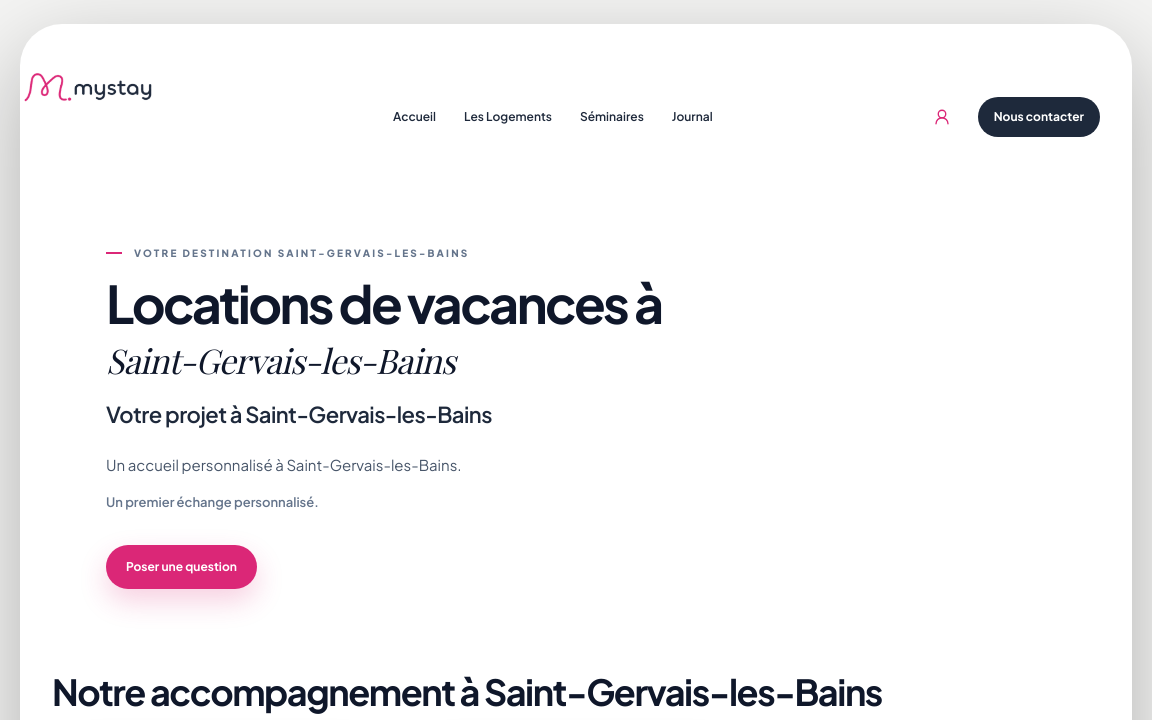
Scenario: 046 AC-03-09 / AC-03-13 — booking-oriented CTAs › AC-03-09 / AC-03-15: keeps only « Poser une question » in the hero
This screenshot has width=1152, height=720.
Click the button "Poser une question" at (181, 567), box [106,545,257,589]
(page scrolled)
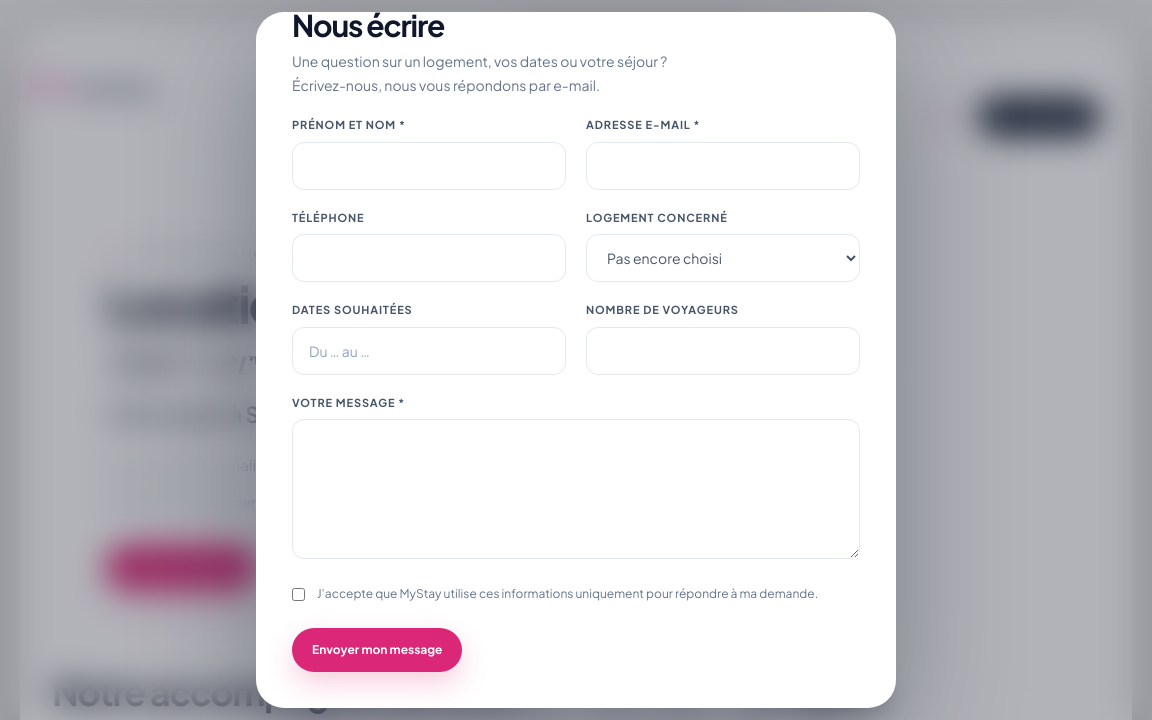
Expected: the form named "Message voyageur" is shown, [292,117,860,672]
